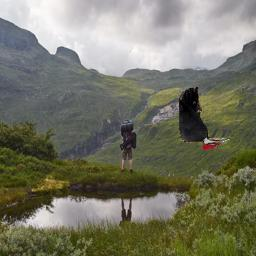Woodpecker: (179, 87, 230, 150)
